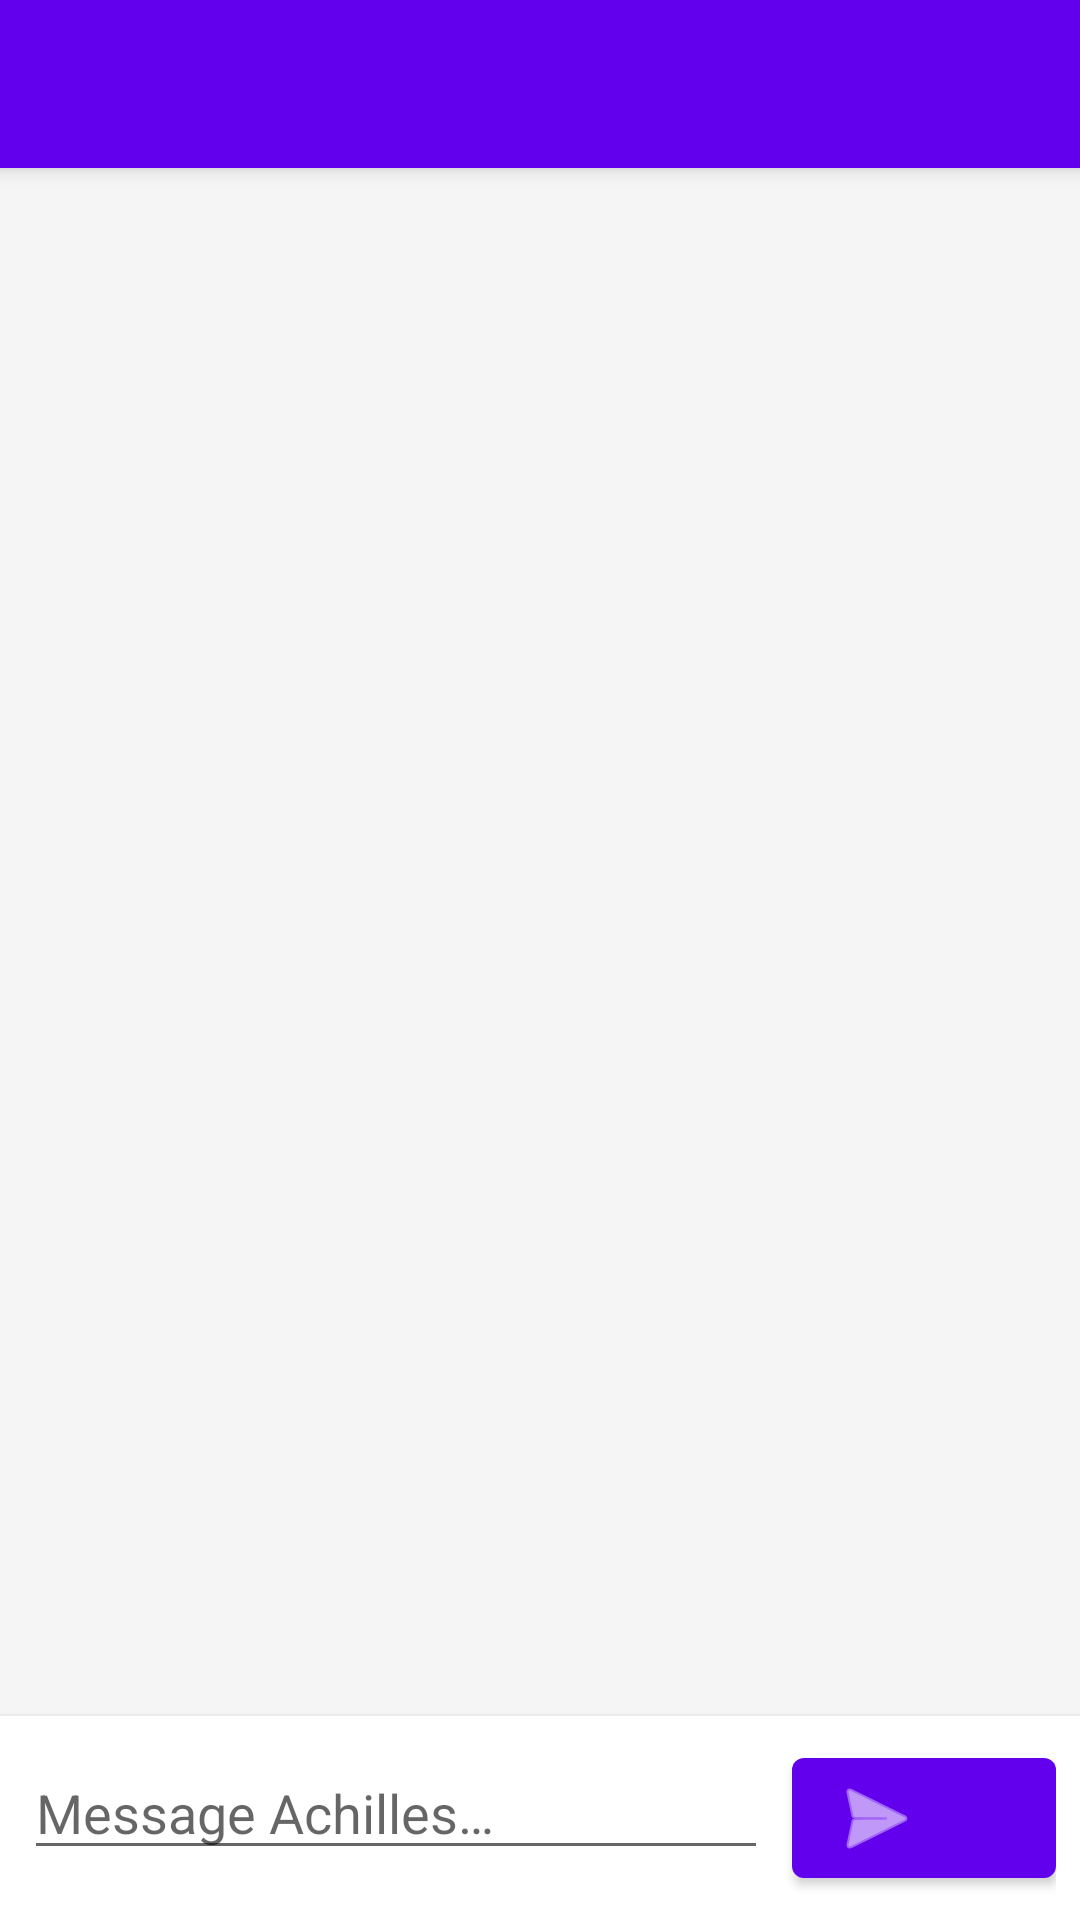

Locate icon controls on the screen. Image size 1080px×1920px, boxes as rect(x1, y1, x2, y2).
Send message: rect(792, 1758, 1056, 1884)
